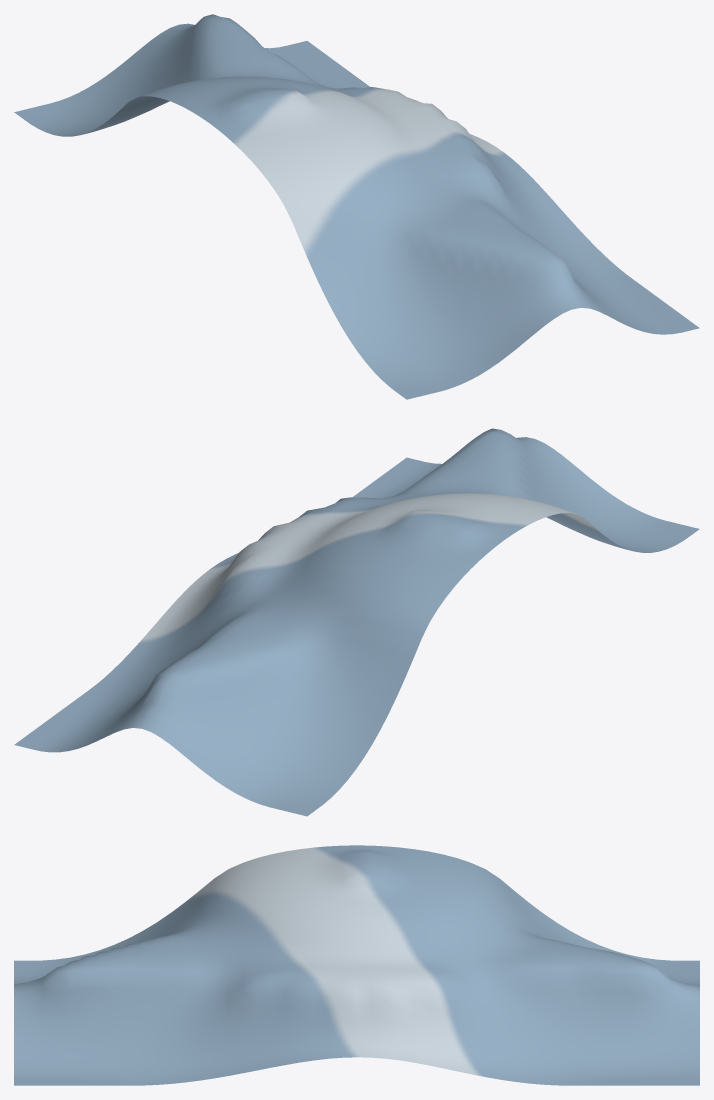
Rendered from blanket.glb.
3 renders of one model, top to bottom at view 1: azimuth 30°, elevation 25°; view 2: azimuth 150°, elevation 25°; view 3: azimuth 270°, elevation 25°, orthographic. The views are drawn at different scales.
Visible parts, largest first — view 1: KiabouBlanket; view 2: KiabouBlanket; view 3: KiabouBlanket.
Boxes of the visible parts, x1,y1,x2,y2 form: KiabouBlanket: (14,14,699,399); KiabouBlanket: (14,428,699,816); KiabouBlanket: (14,845,699,1085).
Bounding box in the file's own units: 0.125 × 0.0578 × 0.29.
1 material, 1 textured.
